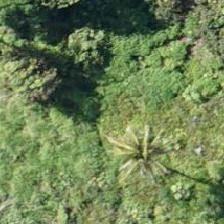coconut_tree: (97, 108, 187, 198)
